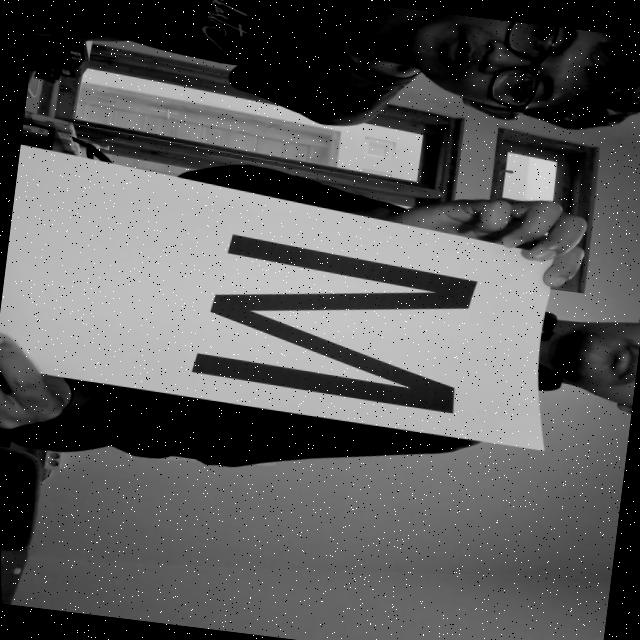m: (161, 218, 501, 420)
